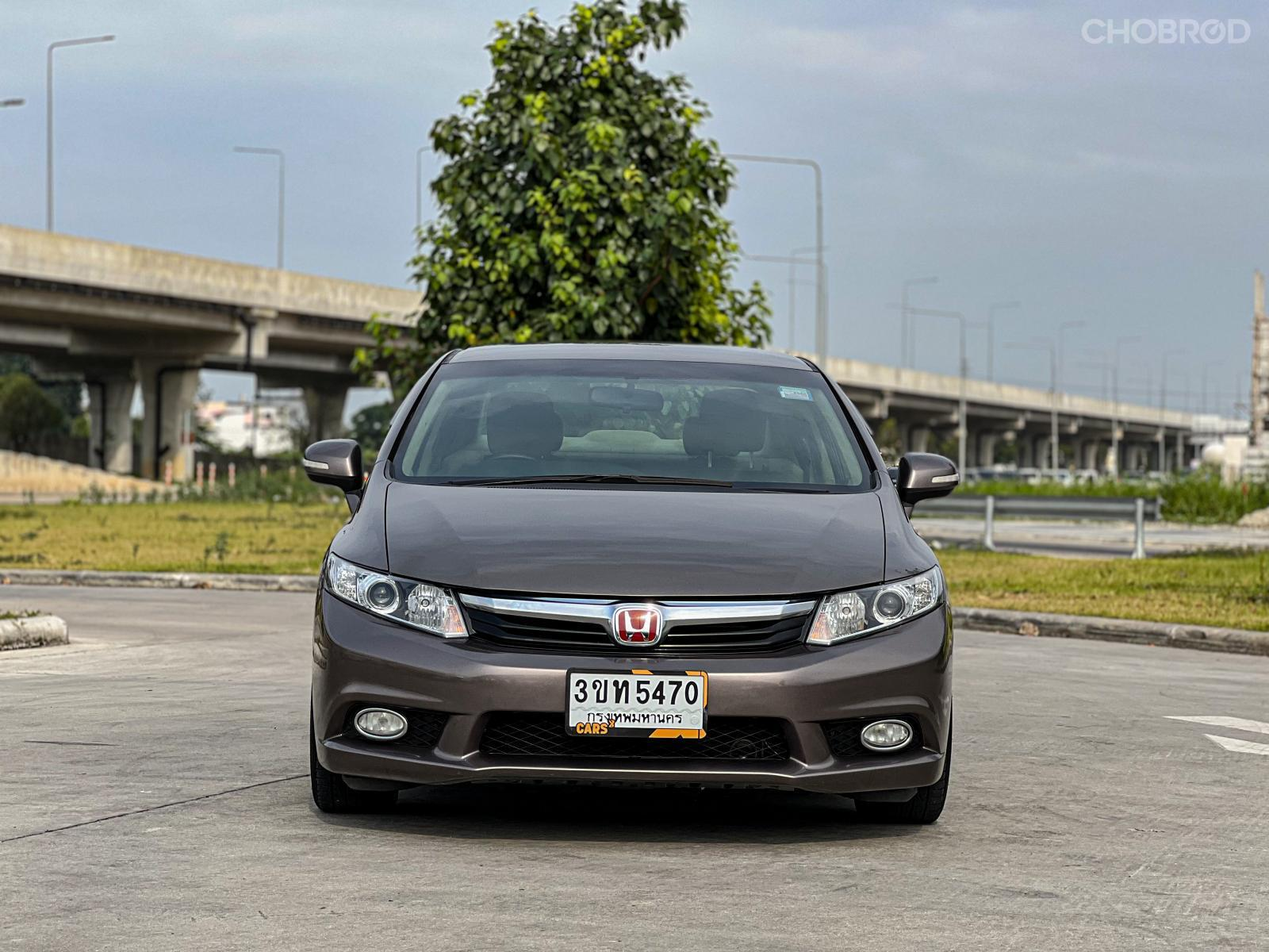license-plate: (560, 660, 714, 752)
